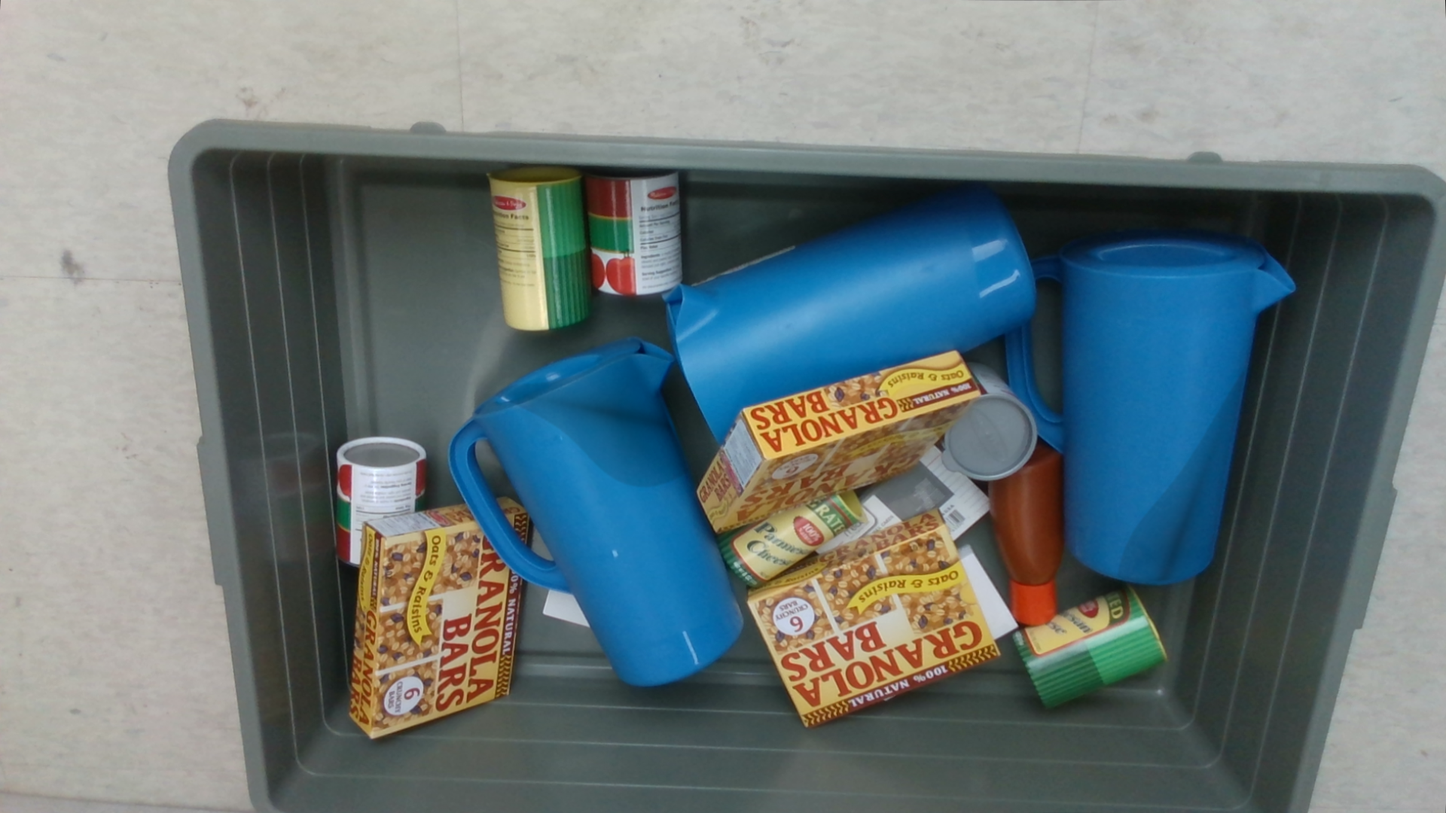defect: (1118, 371, 1244, 584), (496, 351, 688, 487)
